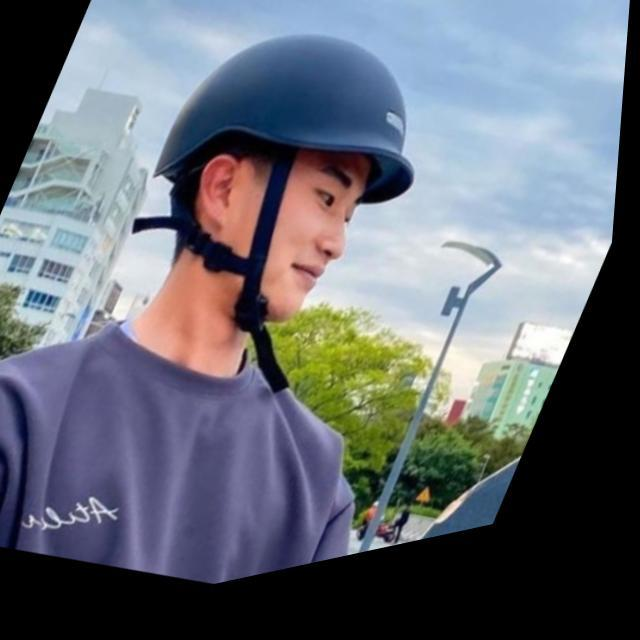Helmet: (135, 28, 419, 333)
